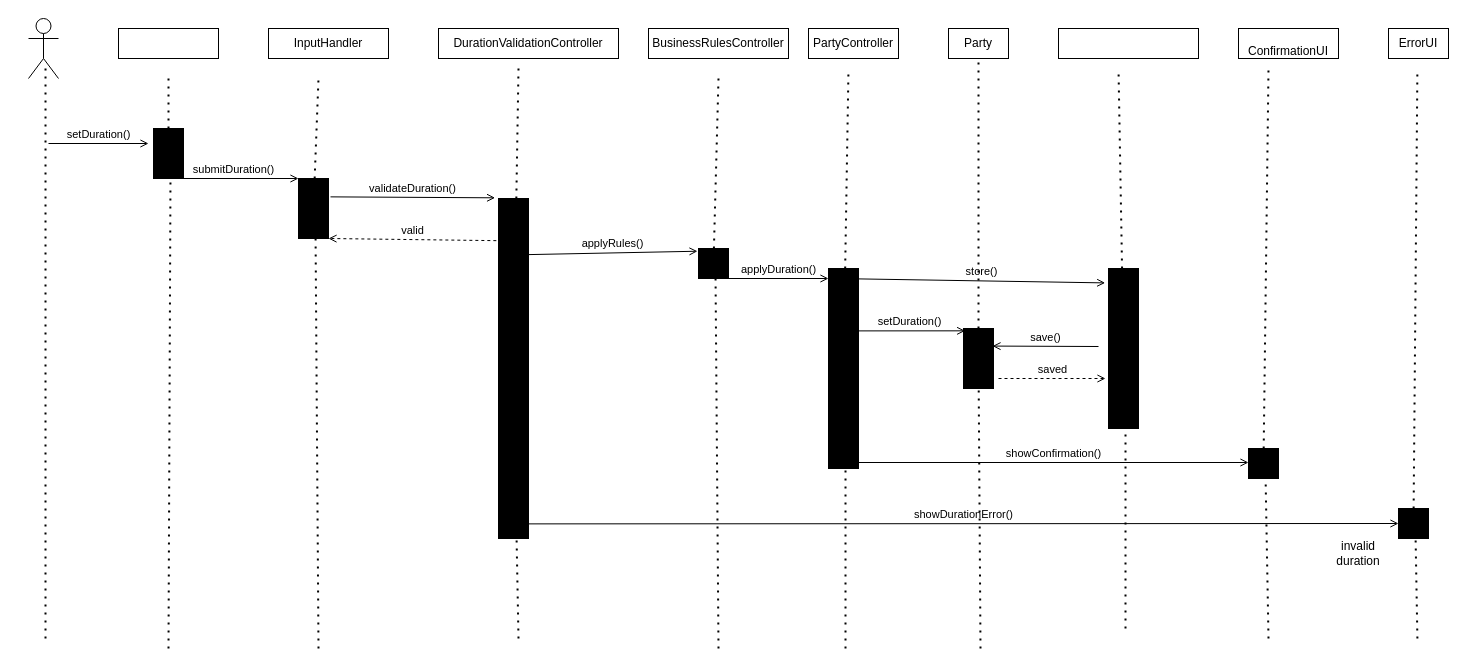
Some shapes in this 1466 by 668 pixel diagram are drawn without their labels. The centre of each missing label's shape, as x and y in pixels:
DurationInputUI: (168,43)
PartyHost: (43,48)
PersistenceController: (1128,43)
